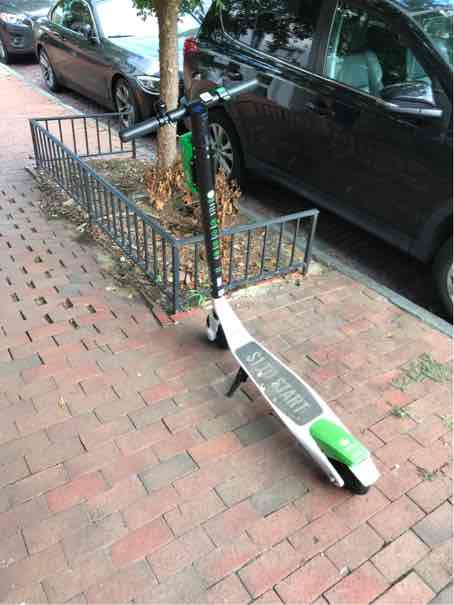scooter: (114, 72, 386, 500)
